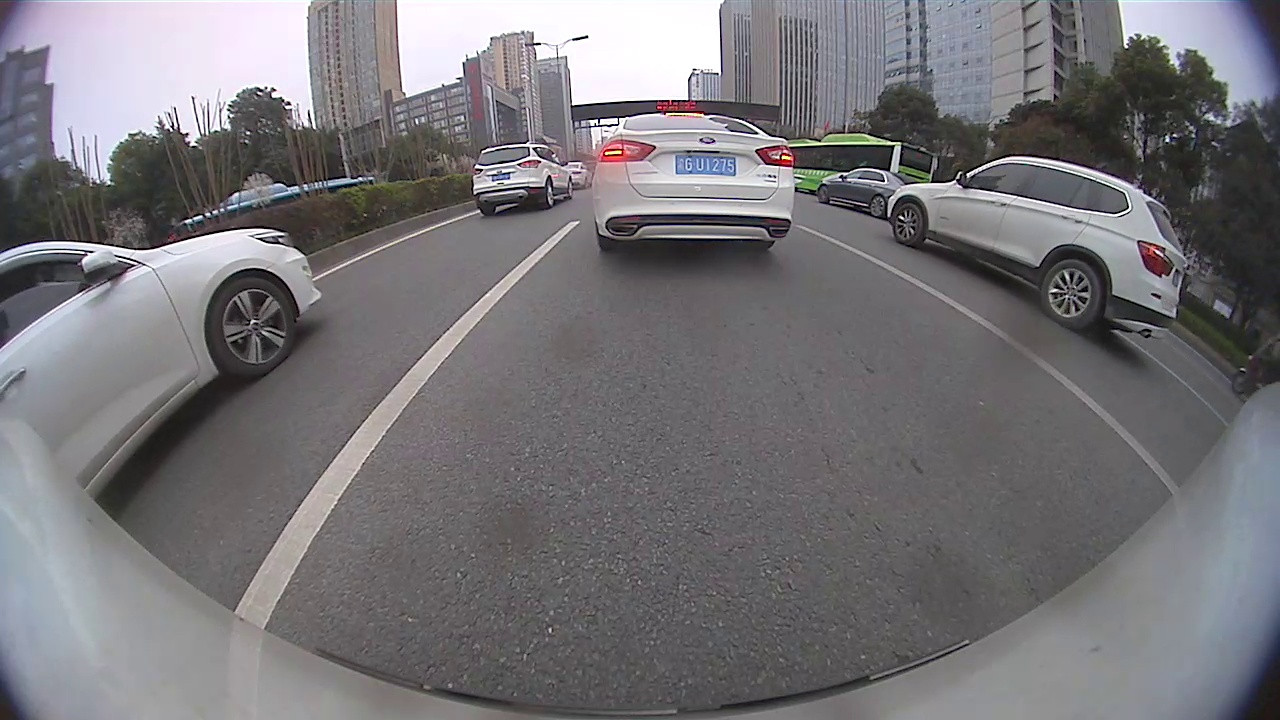bus: (784, 132, 937, 192)
car: (1, 227, 324, 500), (887, 156, 1188, 341), (592, 111, 794, 252), (472, 143, 574, 217), (816, 170, 906, 219), (567, 160, 593, 189)
front: (211, 283, 306, 383), (888, 201, 926, 247), (819, 183, 831, 206)
rear: (1042, 256, 1105, 333), (867, 192, 888, 220), (541, 177, 557, 213)
